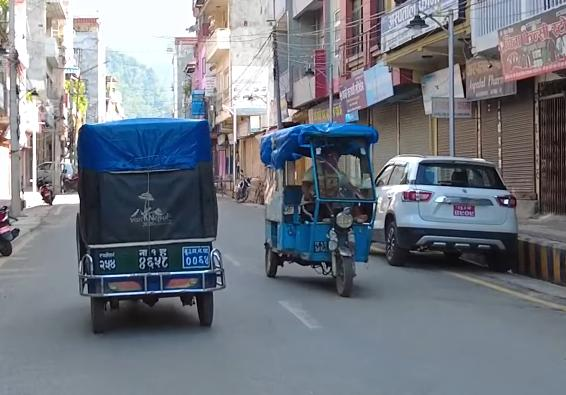car: (369, 149, 526, 269)
e-rickshaw: (71, 114, 219, 336), (255, 114, 378, 297)
